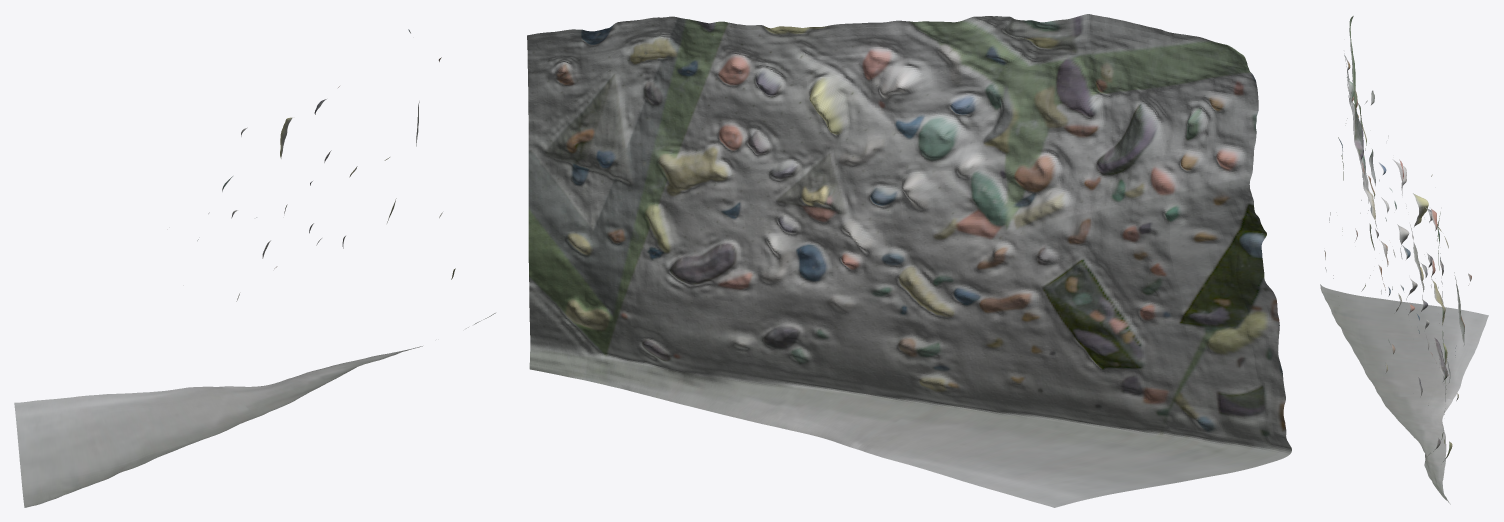
The model's file is single_view.glb.
The picture shows the model from 3 angles, left to right: view 1: azimuth 30°, elevation 25°; view 2: azimuth 150°, elevation 25°; view 3: azimuth 270°, elevation 25°; orthographic projection. The views are drawn at different scales.
Parts seen in each view (by area): view 1: world; view 2: world; view 3: world.
Part boxes in pixels (x1,y1,x2,y2): world: (14,29,495,507); world: (527,14,1291,507); world: (1320,16,1488,504).
Bounding box in the file's own units: 1.74 × 1.06 × 0.5644.
